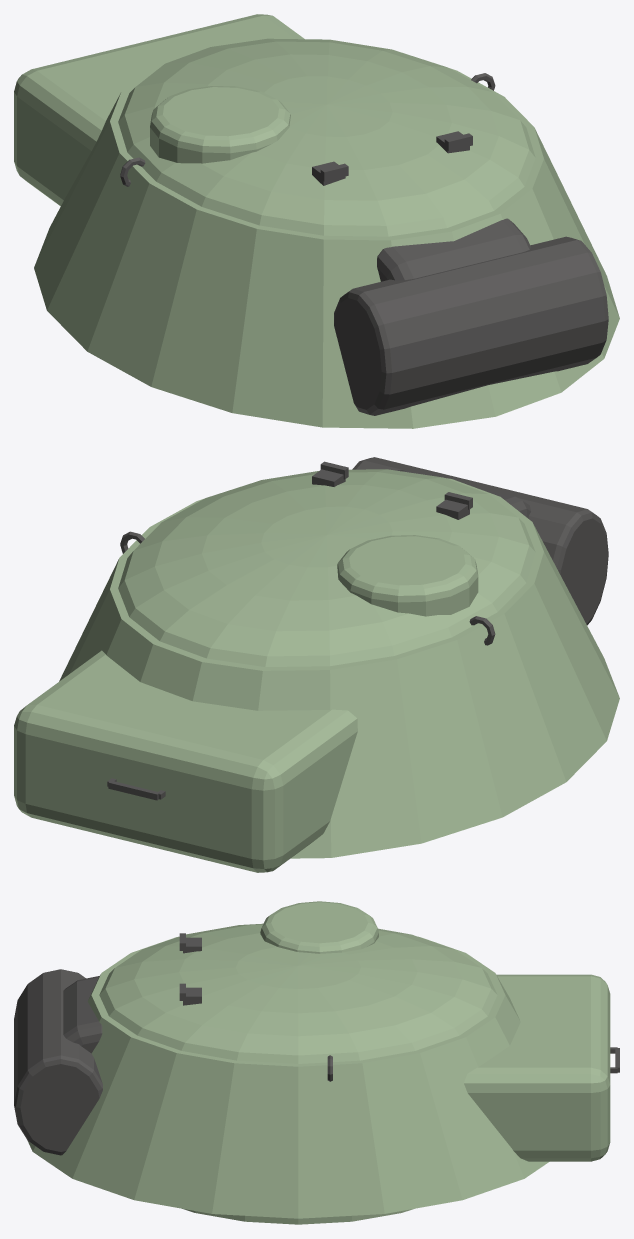
Rendered from player_turret_base.glb.
3 renders of one model, top to bottom at view 1: azimuth 30°, elevation 25°; view 2: azimuth 150°, elevation 25°; view 3: azimuth 270°, elevation 25°, orthographic. The views are drawn at different scales.
Visible parts, largest first — view 1: turret_shell, turret_roof, gun_mantlet, turret_bustle, cupola, mantlet_seal; view 2: turret_shell, turret_roof, turret_bustle, cupola, gun_mantlet; view 3: turret_shell, turret_roof, turret_bustle, gun_mantlet, cupola, mantlet_seal, turret_ring.
Part boxes in pixels (box(x1,y1,x2,y2)): turret_shell: box(34, 47, 619, 428); turret_roof: box(118, 38, 535, 236); gun_mantlet: box(334, 236, 608, 415); turret_bustle: box(14, 14, 304, 206); cupola: box(150, 86, 290, 163); mantlet_seal: box(377, 218, 530, 281); turret_shell: box(59, 478, 619, 858); turret_roof: box(118, 469, 535, 666); turret_bustle: box(14, 650, 357, 872); cupola: box(337, 535, 478, 616); gun_mantlet: box(352, 457, 608, 625); turret_shell: box(27, 936, 549, 1218); turret_roof: box(99, 923, 497, 1063); turret_bustle: box(464, 974, 610, 1161); gun_mantlet: box(14, 969, 102, 1155); cupola: box(260, 901, 378, 953); mantlet_seal: box(63, 976, 102, 1053); turret_ring: box(182, 1208, 414, 1224).
Size of the model in its own units: 2.16 by 0.92 by 2.86.
